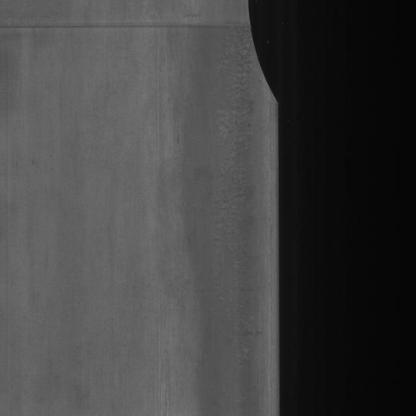welding_line: (0, 10, 258, 42)
